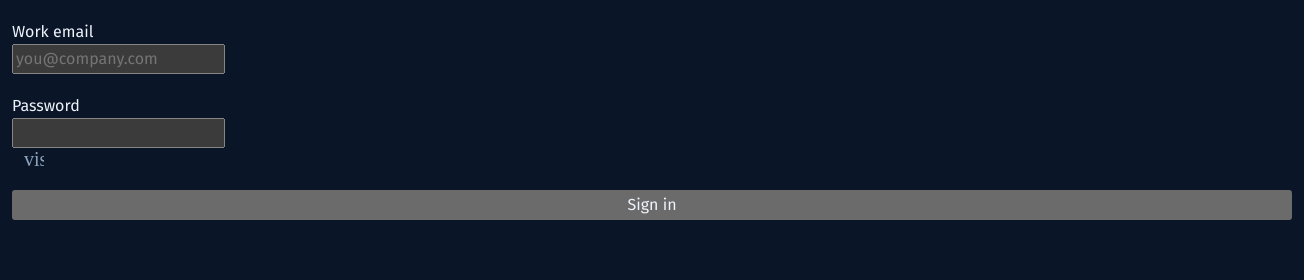
Test case: LoginForm › reports service failures without backend details
Type "dev@acme.io" into the field labelled "Work email". click: (118, 59)
box: [12,44,225,74]
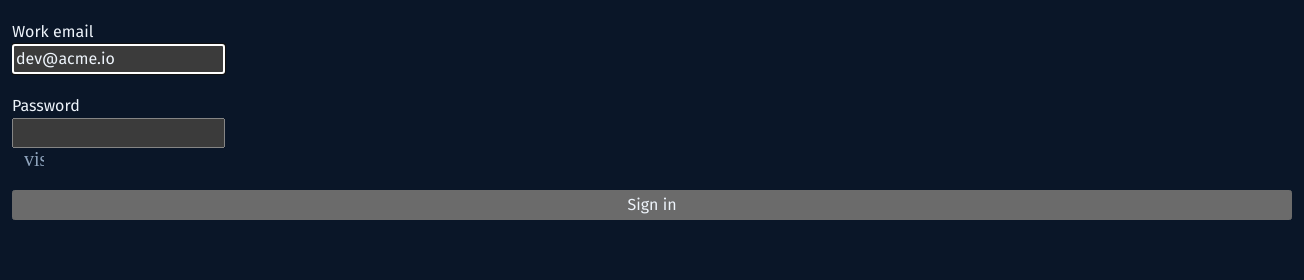
Type "s3cret-pass" into the password field labelled "Password". click: (118, 133)
box: [12,118,225,148]
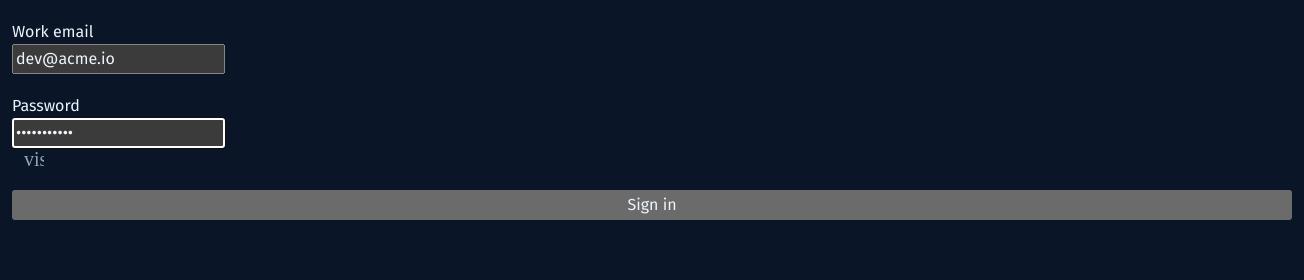
Click the button "Sign in". click: click(652, 205)
box: [12,190,1292,220]
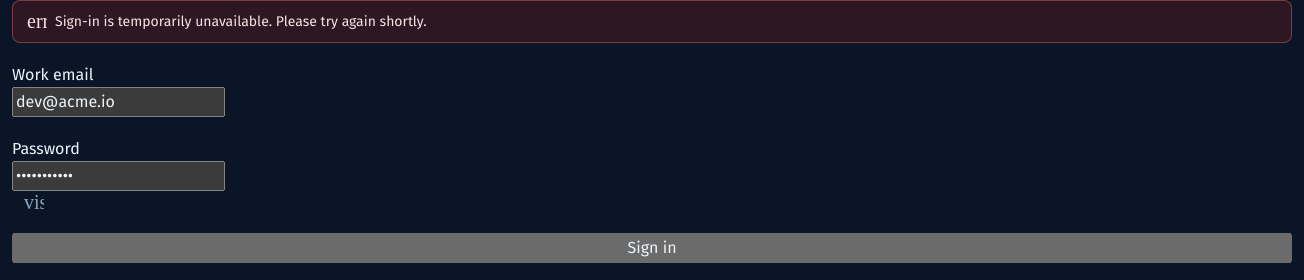
Expected: the message does not show "ECONNREFUSED", [12,0,1292,43]
Now the message shows "temporarily unavailable", box [55,13,426,30]
